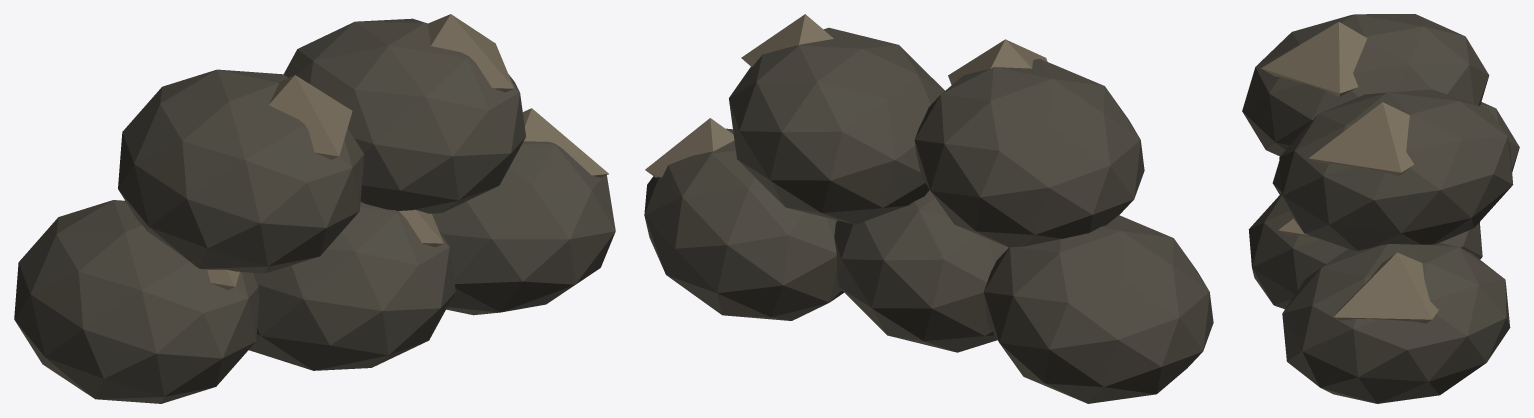
The model's file is pile-stone-5.obj.
3 views of the same model, side by side, from view 1: azimuth 30°, elevation 25°; view 2: azimuth 150°, elevation 25°; view 3: azimuth 270°, elevation 25° (orthographic). The views are drawn at different scales.
Parts seen in each view (by area): view 1: pile-stone-5; view 2: pile-stone-5; view 3: pile-stone-5.
Boxes of the visible parts, x1=… form: pile-stone-5: x1=14, y1=14, x2=615, y2=403; pile-stone-5: x1=644, y1=14, x2=1213, y2=403; pile-stone-5: x1=1242, y1=14, x2=1519, y2=403.
Bounding box in the file's own units: 0.8581 × 0.4439 × 0.4095.
1 material, 1 textured.
